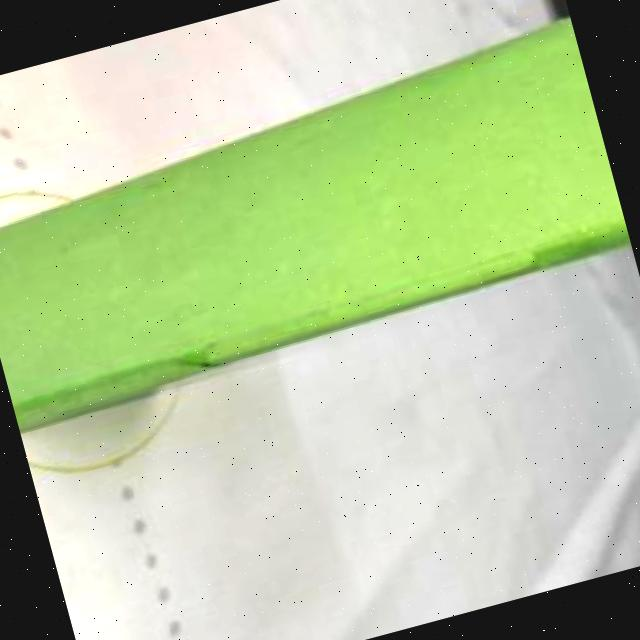greenbox: (0, 13, 638, 436)
